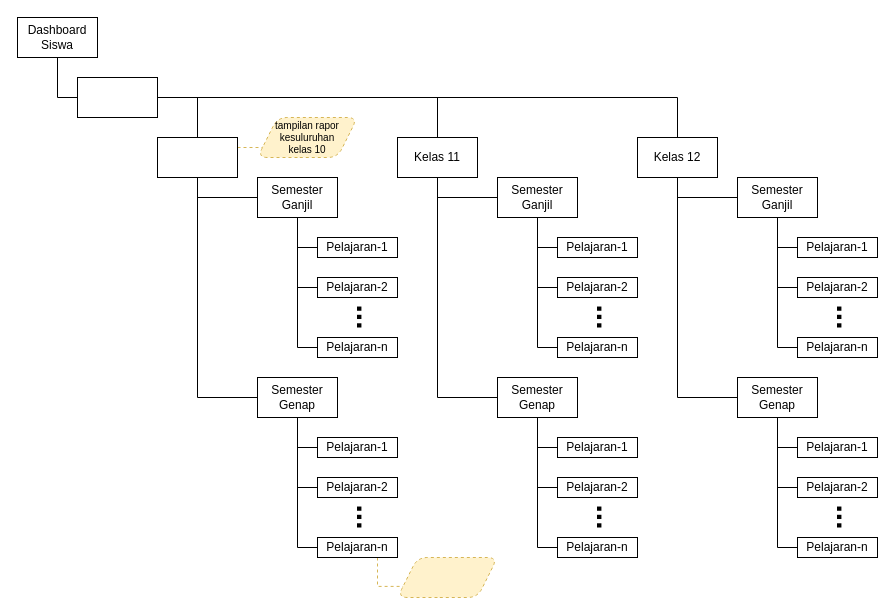
This 895x615 diagram has some shape labels left out. The shapes that lost their labels are listed below. From the top down, each one's centre as x and y in pixels, then its label:
At point (117, 97): "Rapor Nilai".
At point (197, 157): "Kelas 10".
At point (447, 577): "Nilai Akhir Pelajaran Terkait".
